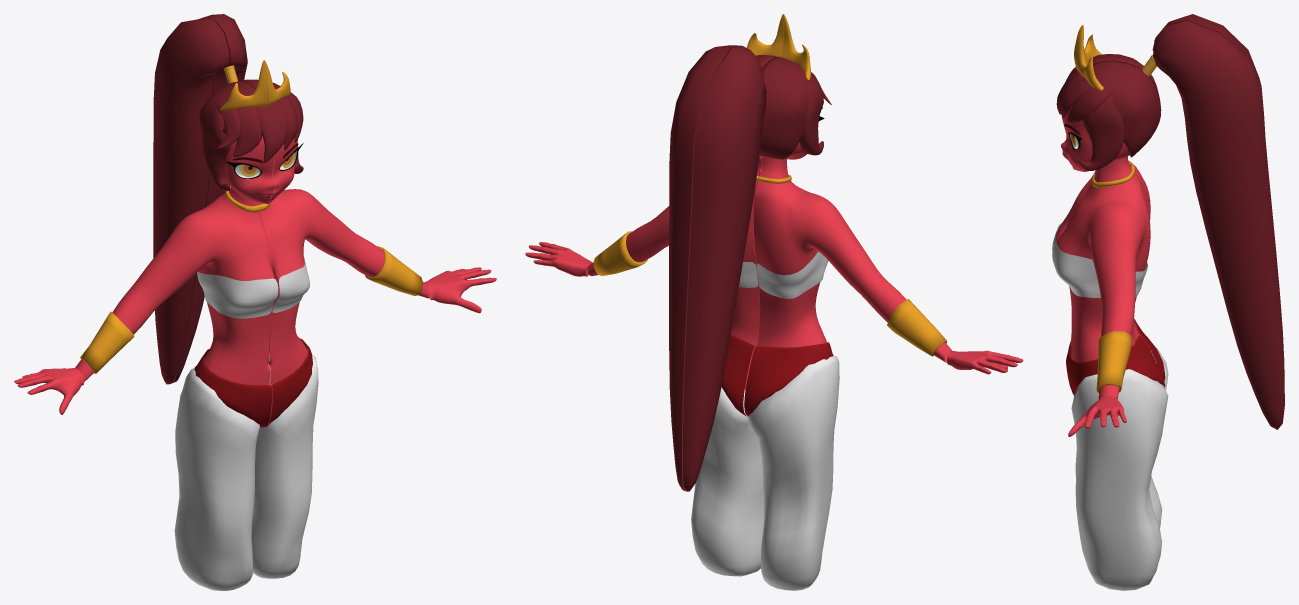
File: RedQueen_Export_V13.fbx
The picture shows the model from 3 angles, left to right: view 1: azimuth 30°, elevation 25°; view 2: azimuth 150°, elevation 25°; view 3: azimuth 270°, elevation 25°; orthographic projection. The views are drawn at different scales.
Visible parts, largest first — view 1: Pants_Cloth, Plane.015, Ponytail.001, Plane.014, Pants, Cube.007, Plane.016, head, Ponytail.006, Cube, Ponytail.002, Ponytail.005 (+1 smaller); view 2: Ponytail.001, Pants_Cloth, Plane.015, Pants, Plane.017, Plane.016, Cube.007, Plane.014, Cube, Ponytail.006; view 3: Ponytail.001, Pants_Cloth, Plane.015, Plane.017, Ponytail.006, Pants, Plane.014, Plane.016, head, Cube.007, Cube, Ponytail.007 (+2 smaller).
Boxes of the visible parts, box(x1,y1,x2,y2) form: Pants_Cloth: box(174, 353, 318, 590); Plane.015: box(75, 187, 429, 423); Ponytail.001: box(153, 14, 247, 384); Plane.014: box(197, 256, 309, 318); Pants: box(194, 338, 312, 427); Cube.007: box(14, 267, 496, 414); Plane.016: box(80, 246, 422, 373); head: box(225, 135, 297, 203); Ponytail.006: box(201, 109, 303, 191); Cube: box(219, 60, 290, 110); Ponytail.002: box(254, 97, 288, 163); Ponytail.005: box(233, 107, 262, 157); Ponytail.001: box(669, 45, 766, 491); Pants_Cloth: box(691, 356, 839, 590); Plane.015: box(587, 156, 952, 390); Pants: box(721, 334, 833, 416); Plane.017: box(756, 55, 821, 159); Plane.016: box(593, 231, 947, 356); Cube.007: box(525, 242, 1023, 374); Plane.014: box(739, 251, 828, 298); Cube: box(746, 14, 810, 80); Ponytail.006: box(799, 81, 823, 155); Ponytail.001: box(1152, 14, 1284, 429); Pants_Cloth: box(1071, 344, 1168, 590); Plane.015: box(1054, 156, 1150, 399); Plane.017: box(1088, 54, 1161, 157); Ponytail.006: box(1080, 95, 1124, 170); Pants: box(1066, 318, 1165, 395); Plane.014: box(1052, 223, 1147, 297); Plane.016: box(1096, 331, 1132, 393); head: box(1061, 106, 1129, 171); Cube.007: box(1068, 395, 1126, 436); Cube: box(1074, 24, 1103, 90); Ponytail.007: box(1067, 86, 1111, 122).
Bounding box in the file's own units: 1108 × 1202 × 459.
